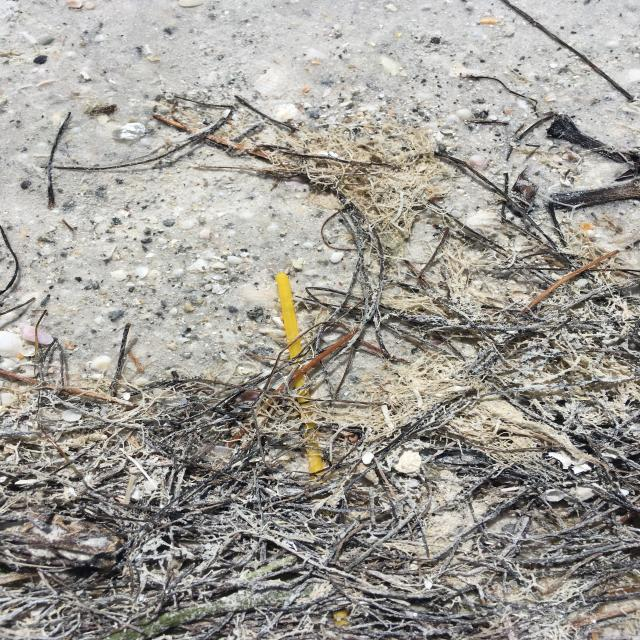litter: (273, 271, 329, 478)
